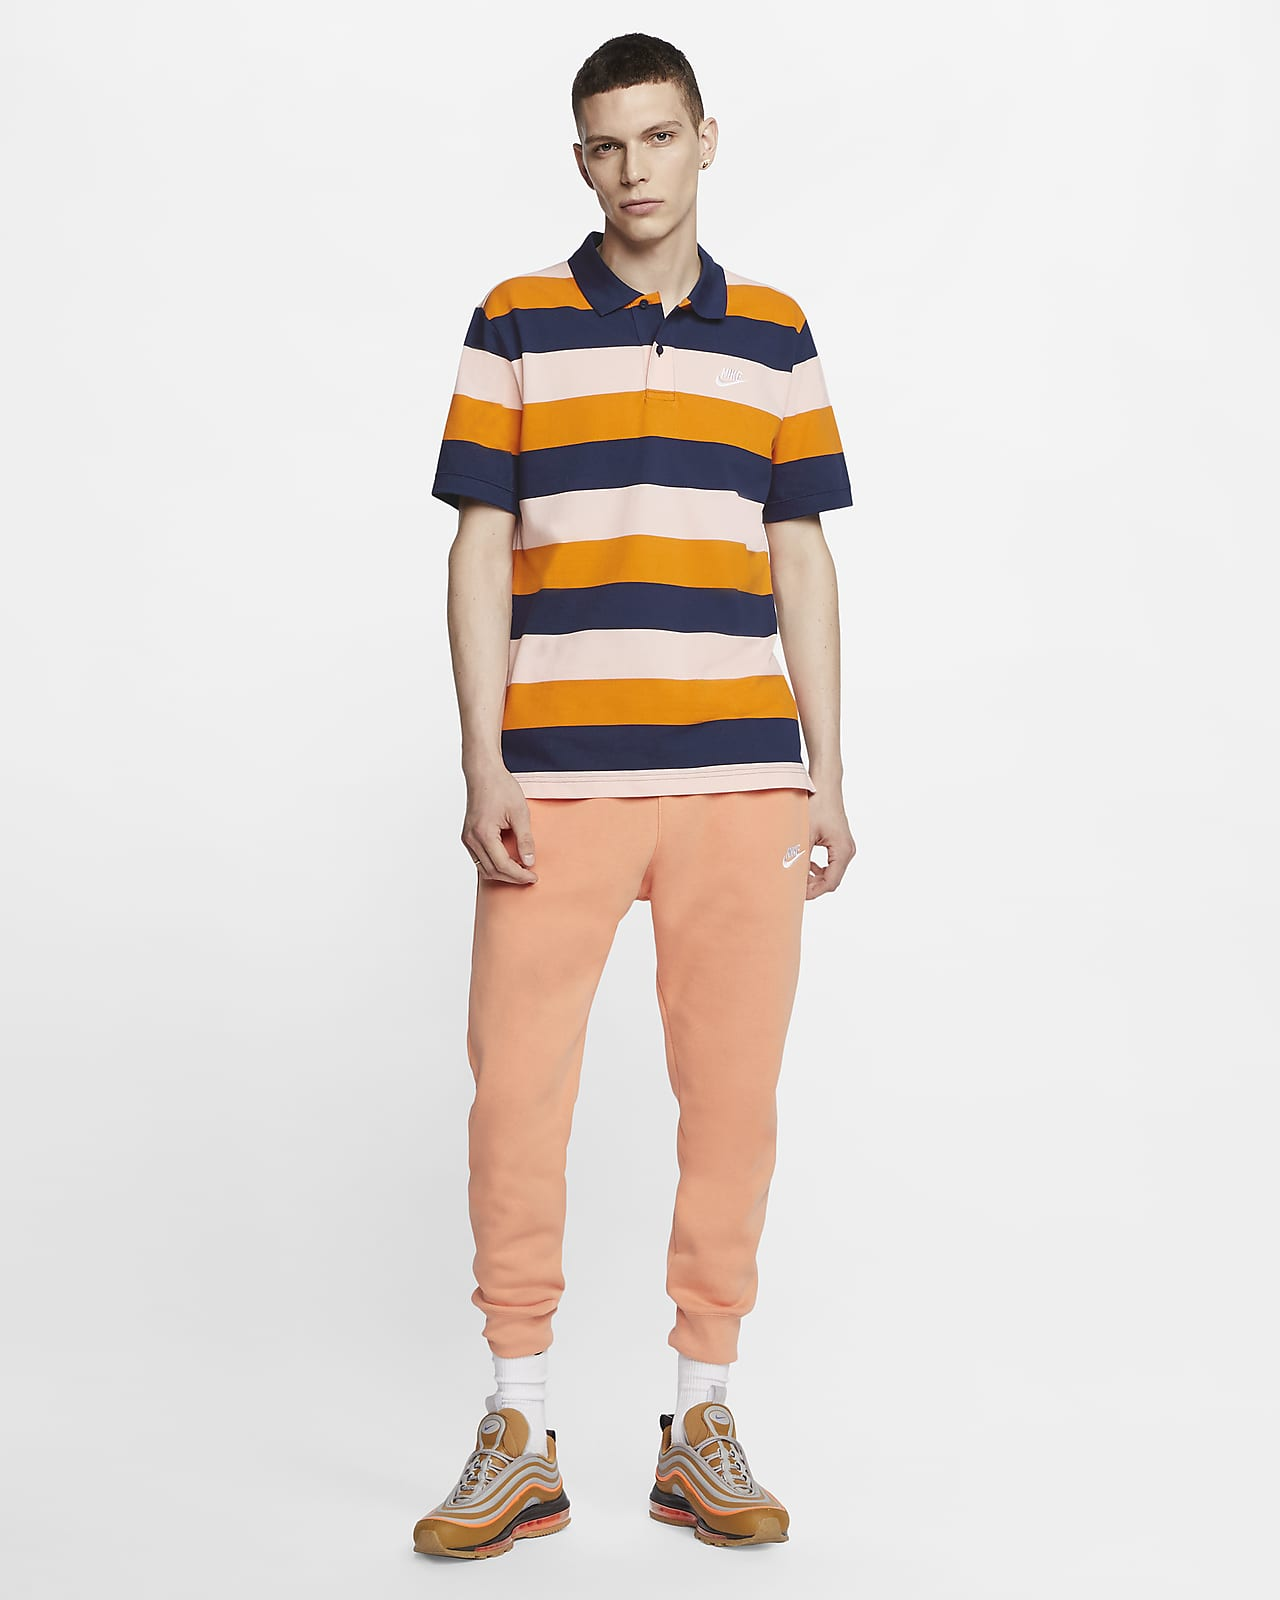striped: (436, 240, 852, 797)
